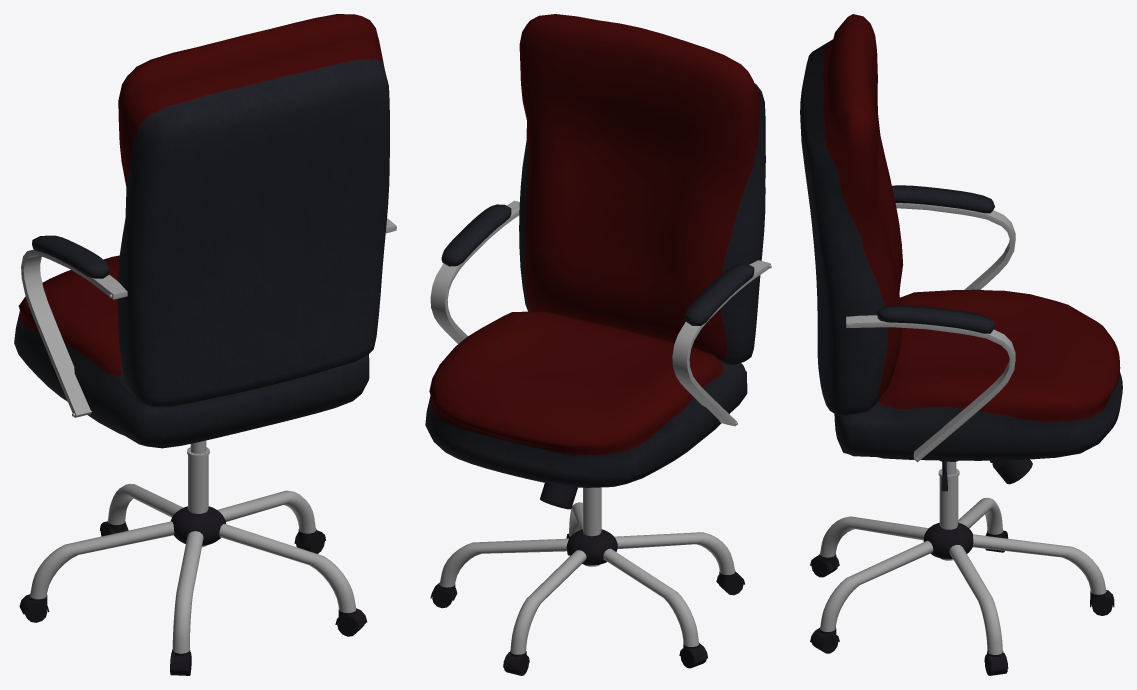
File: Office_Chair_Textured.fbx
The picture shows the model from 3 angles, left to right: view 1: azimuth 30°, elevation 25°; view 2: azimuth 150°, elevation 25°; view 3: azimuth 270°, elevation 25°; orthographic projection. The views are drawn at different scales.
Parts seen in each view (by area): view 1: chair.002_low, chair.003_low, chair.005_low, chair.015_low.004, chair.015_low.002, chair.015_low.003, chair.015_low.001, chair.001_low, chair.013_low, chair.014_low, chair.015_low, chair.009_low.002 (+1 smaller); view 2: chair.002_low, chair.003_low, chair.005_low, chair.001_low, chair.015_low.001, chair.015_low.004, chair.015_low, chair.015_low.003, chair.014_low, chair.013_low, chair.011_low, chair.009_low.004; view 3: chair.003_low, chair.002_low, chair.005_low, chair.001_low, chair.015_low, chair.015_low.002, chair.015_low.001, chair.015_low.003, chair.013_low, chair.014_low, chair.015_low.004, chair.011_low (+3 smaller).
Part boxes in pixels (x1=…): chair.002_low: x1=117, y1=14, x2=389, y2=407; chair.003_low: x1=14, y1=255, x2=369, y2=448; chair.005_low: x1=21, y1=218, x2=396, y2=417; chair.015_low.004: x1=30, y1=521, x2=174, y2=599; chair.015_low.002: x1=219, y1=523, x2=356, y2=612; chair.015_low.003: x1=172, y1=531, x2=203, y2=653; chair.015_low.001: x1=217, y1=490, x2=315, y2=533; chair.001_low: x1=32, y1=235, x2=108, y2=278; chair.013_low: x1=187, y1=440, x2=209, y2=547; chair.014_low: x1=171, y1=506, x2=225, y2=545; chair.015_low: x1=108, y1=484, x2=183, y2=524; chair.009_low.002: x1=335, y1=608, x2=367, y2=636; chair.002_low: x1=519, y1=14, x2=765, y2=364; chair.003_low: x1=425, y1=311, x2=747, y2=487; chair.005_low: x1=430, y1=200, x2=770, y2=426; chair.001_low: x1=441, y1=204, x2=754, y2=325; chair.015_low.001: x1=439, y1=538, x2=568, y2=587; chair.015_low.004: x1=603, y1=548, x2=698, y2=646; chair.015_low: x1=510, y1=550, x2=586, y2=654; chair.015_low.003: x1=614, y1=532, x2=735, y2=574; chair.014_low: x1=566, y1=529, x2=617, y2=565; chair.013_low: x1=583, y1=487, x2=601, y2=566; chair.011_low: x1=540, y1=483, x2=577, y2=509; chair.009_low.004: x1=679, y1=643, x2=707, y2=668; chair.003_low: x1=834, y1=289, x2=1122, y2=460; chair.002_low: x1=800, y1=14, x2=903, y2=415; chair.005_low: x1=846, y1=203, x2=1015, y2=462; chair.001_low: x1=877, y1=185, x2=994, y2=333; chair.015_low: x1=973, y1=534, x2=1106, y2=594; chair.015_low.002: x1=820, y1=540, x2=933, y2=631; chair.015_low.001: x1=949, y1=545, x2=1002, y2=654; chair.015_low.003: x1=820, y1=516, x2=928, y2=557; chair.013_low: x1=938, y1=461, x2=959, y2=560; chair.014_low: x1=923, y1=522, x2=973, y2=559; chair.015_low.004: x1=958, y1=497, x2=1002, y2=534; chair.011_low: x1=990, y1=459, x2=1032, y2=484.
Bounding box in the file's own units: 61.22 × 118 × 61.74.
1 material, 1 textured.
